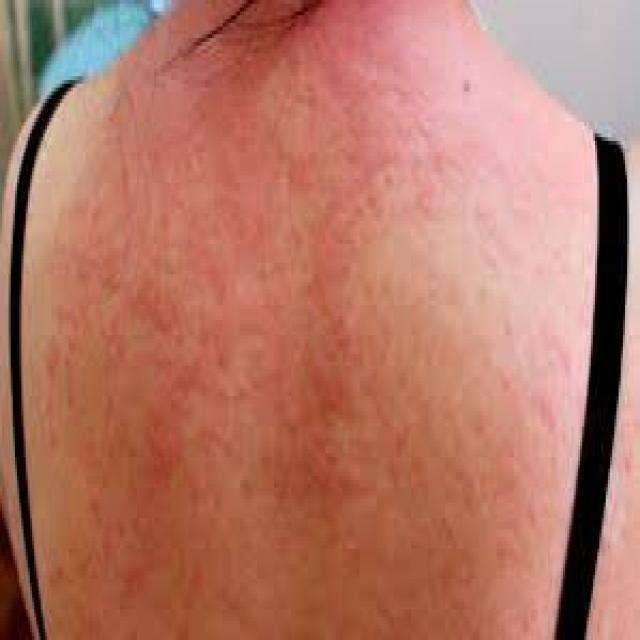Eczema: (57, 1, 530, 597)
